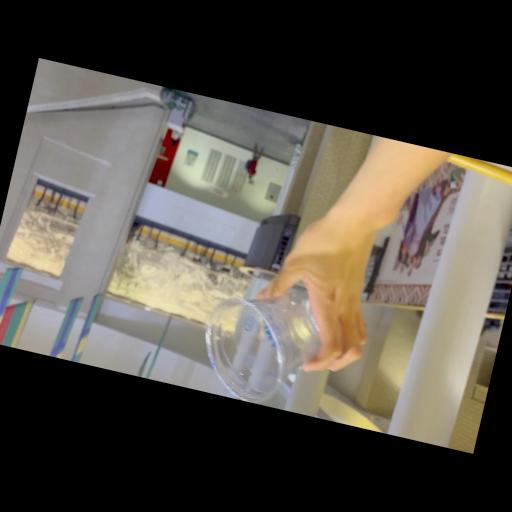lp_plastic_cup: (198, 271, 338, 413)
